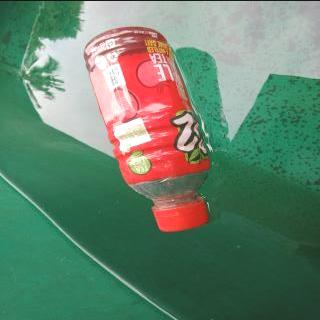bottle: (81, 26, 210, 231)
